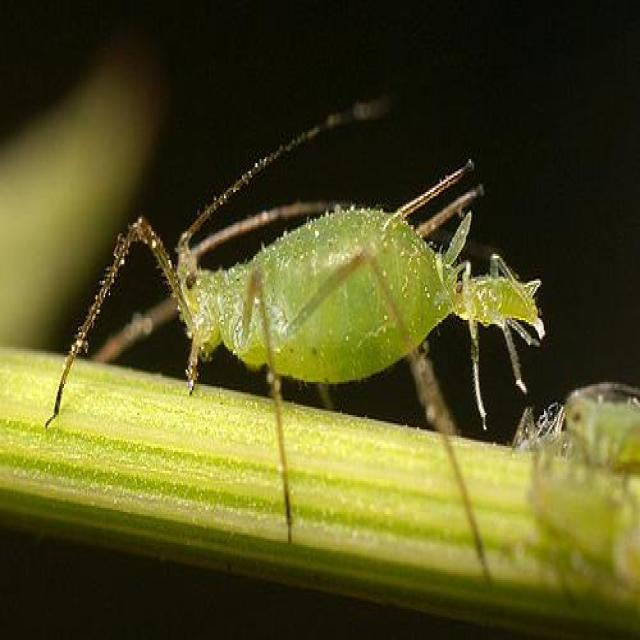Aphids: (67, 134, 508, 582)
